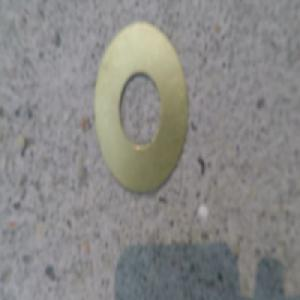Washer: (93, 21, 190, 193)
